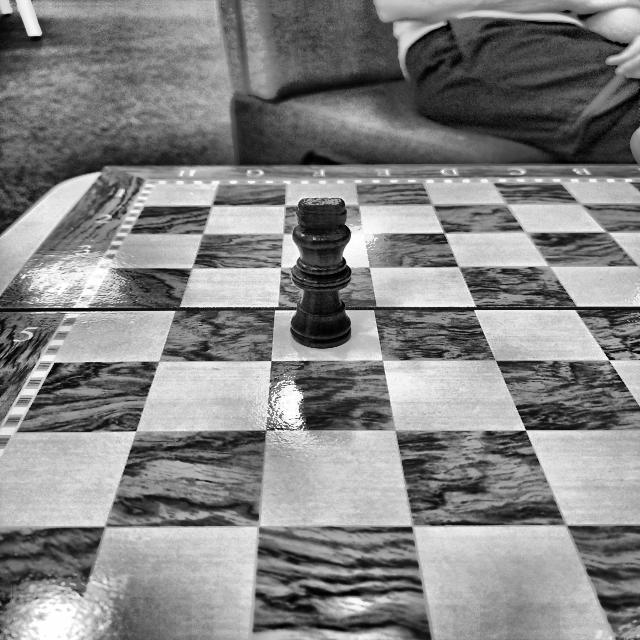black-king: (289, 198, 353, 348)
